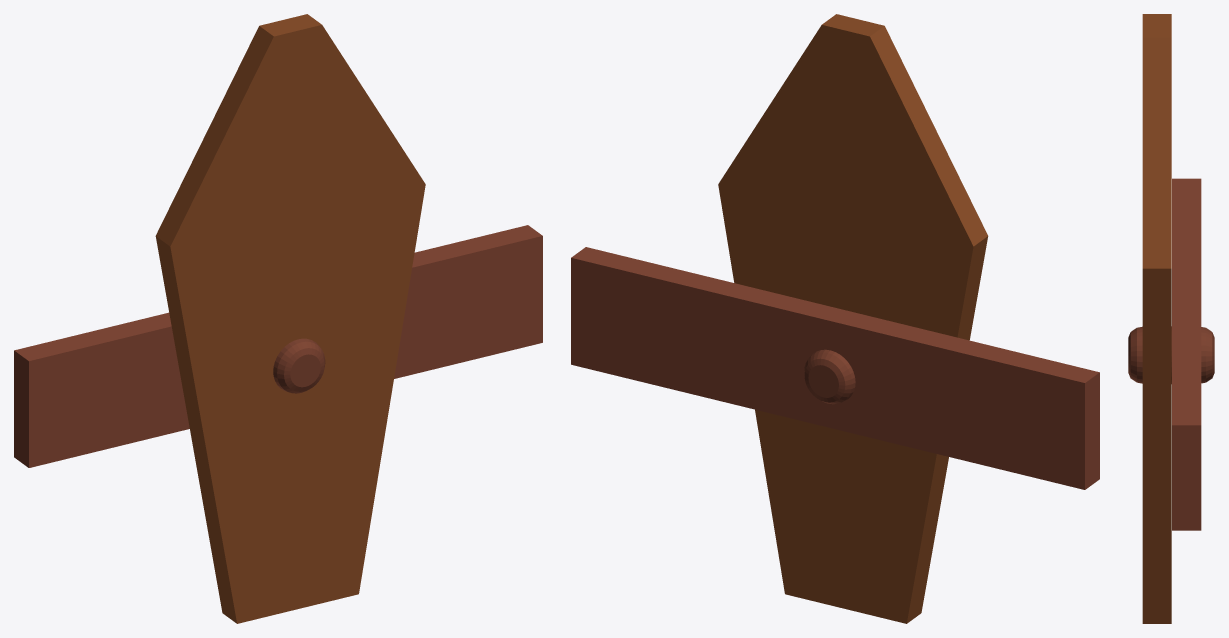
File: fenceFall.glb
The picture shows the model from 3 angles, left to right: view 1: azimuth 30°, elevation 25°; view 2: azimuth 150°, elevation 25°; view 3: azimuth 270°, elevation 25°; orthographic projection.
Parts seen in each view (by area): view 1: fenceBar.010, Cylinder.002; view 2: fenceBar.010, Cylinder.002; view 3: fenceBar.010, Cylinder.002.
Boxes of the visible parts, x1,y1,x2,y2 form: fenceBar.010: [14, 14, 542, 623]; Cylinder.002: [273, 338, 325, 393]; fenceBar.010: [571, 14, 1099, 623]; Cylinder.002: [804, 349, 855, 404]; fenceBar.010: [1142, 14, 1201, 623]; Cylinder.002: [1128, 326, 1214, 383].
Size of the model in its own units: 1.01 by 1.08 by 0.149.
